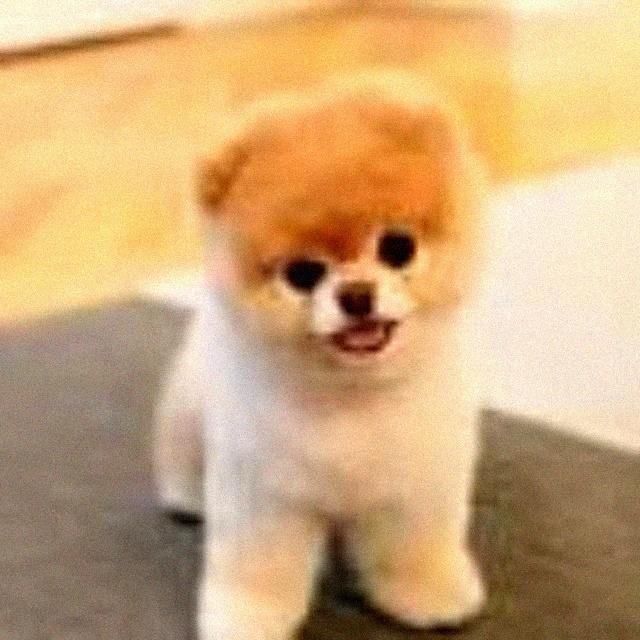dog: (162, 63, 506, 399)
